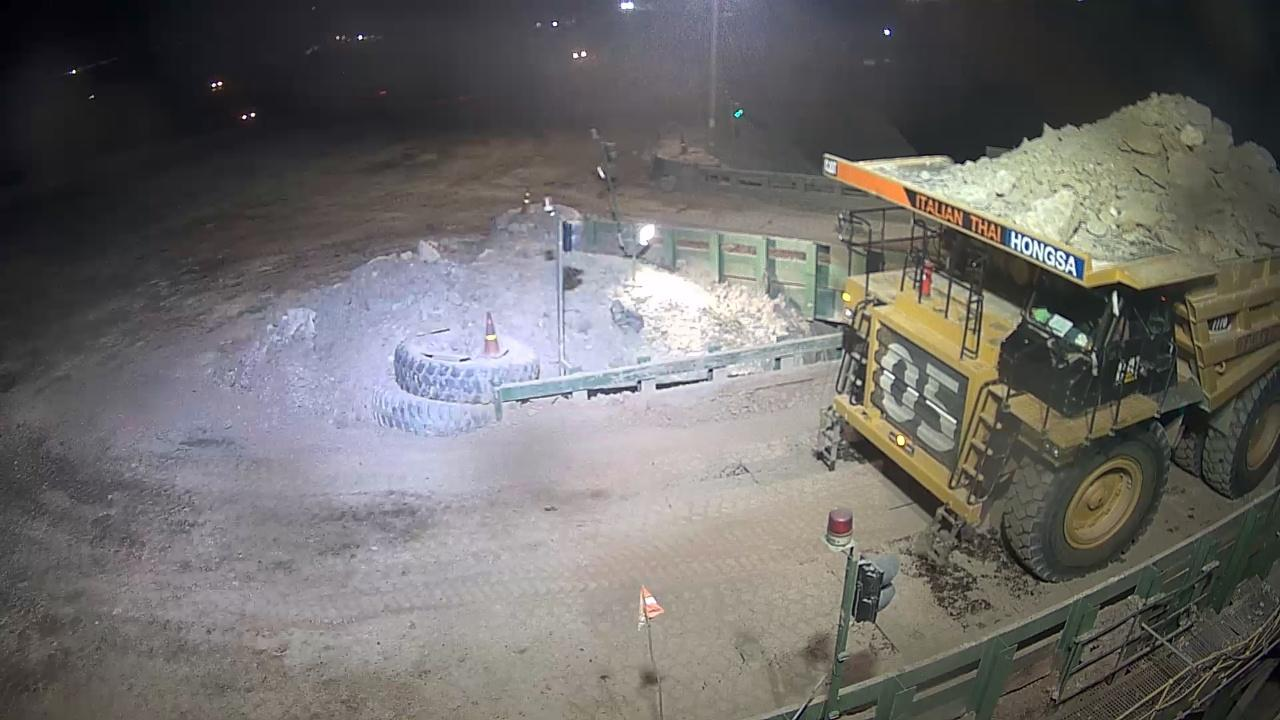front_number: (877, 331, 969, 469)
full_load: (963, 88, 1261, 254)
mining_truck: (810, 77, 1278, 583)
